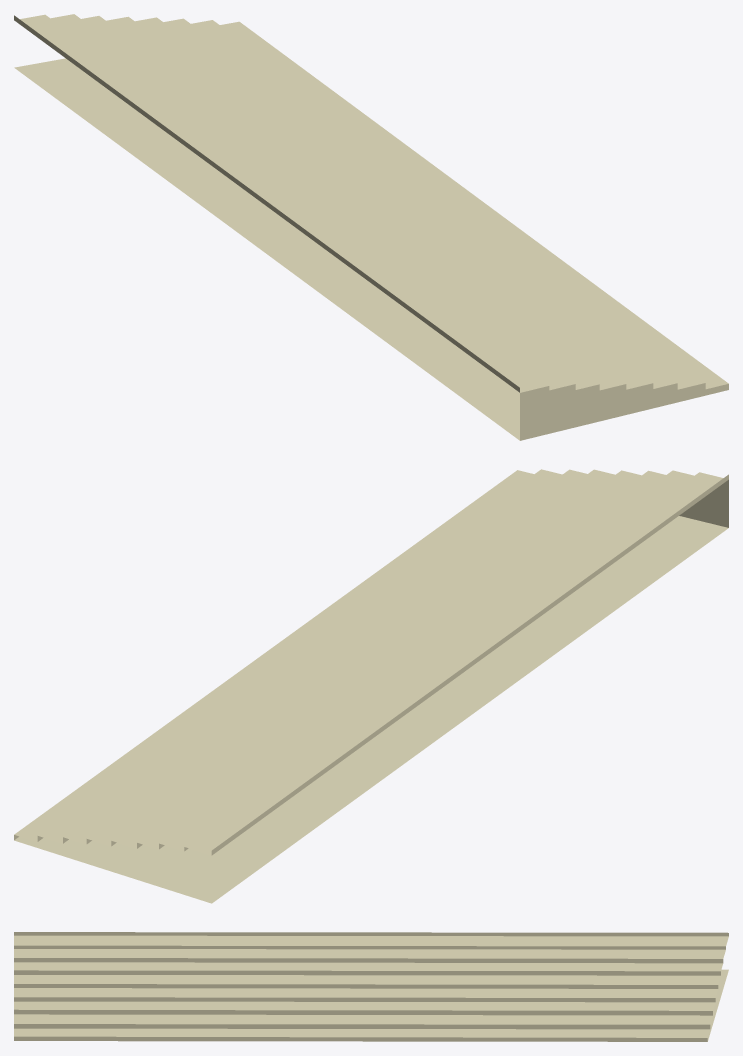
The model's file is MDL_StairsLarge.fbx.
3 views of the same model, one above another, from view 1: azimuth 30°, elevation 25°; view 2: azimuth 150°, elevation 25°; view 3: azimuth 270°, elevation 25° (orthographic). The views are drawn at different scales.
Parts seen in each view (by area): view 1: polySurface53; view 2: polySurface53; view 3: polySurface53.
Boxes of the visible parts, <box> form: polySurface53: <box>14,14,728,440</box>; polySurface53: <box>14,469,728,903</box>; polySurface53: <box>14,932,728,1041</box>.
Size of the model in its own units: 271 by 64.48 by 1120.
